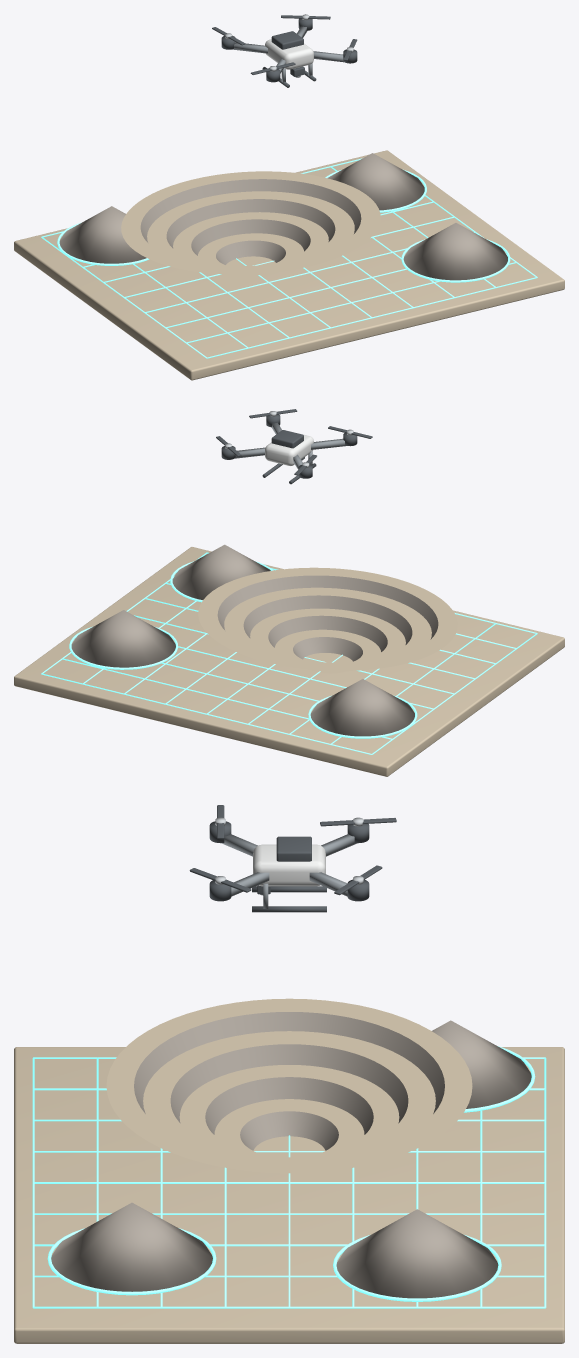
The model's file is drone-mine-monitoring.glb.
The picture shows the model from 3 angles, top to bottom: view 1: azimuth 30°, elevation 25°; view 2: azimuth 150°, elevation 25°; view 3: azimuth 270°, elevation 25°; orthographic projection. The views are drawn at different scales.
Visible parts, largest first — view 1: Base_0026, Terrace_0027, Ore_Pile_0040, Terrace_0029, Terrace_0028, Ore_Pile_0038, Ore_Pile_0036, Terrace_0030, Terrace_0031, Terrace_0032, Terrace_0033, Terrace_0034 (+5 smaller); view 2: Base_0026, Terrace_0027, Ore_Pile_0038, Ore_Pile_0036, Terrace_0029, Terrace_0028, Ore_Pile_0040, Terrace_0030, Terrace_0031, Terrace_0032, Terrace_0033, Terrace_0034 (+5 smaller); view 3: Base_0026, Terrace_0027, Ore_Pile_0038, Ore_Pile_0040, Terrace_0029, Terrace_0028, Terrace_0030, Terrace_0031, Terrace_0032, Ore_Pile_0036, Terrace_0033, Terrace_0034 (+11 smaller).
Boxes of the visible parts, x1=… form: Base_0026: x1=14, y1=150, x2=564, y2=380; Terrace_0027: x1=121, y1=171, x2=380, y2=274; Ore_Pile_0040: x1=403, y1=223, x2=507, y2=280; Terrace_0029: x1=147, y1=191, x2=354, y2=266; Terrace_0028: x1=140, y1=179, x2=361, y2=242; Ore_Pile_0038: x1=327, y1=153, x2=424, y2=210; Ore_Pile_0036: x1=59, y1=206, x2=146, y2=263; Terrace_0030: x1=166, y1=199, x2=335, y2=248; Terrace_0031: x1=173, y1=212, x2=328, y2=265; Terrace_0032: x1=191, y1=219, x2=310, y2=255; Terrace_0033: x1=198, y1=233, x2=303, y2=275; Terrace_0034: x1=216, y1=240, x2=285, y2=264; Base_0026: x1=14, y1=547, x2=564, y2=776; Terrace_0027: x1=198, y1=567, x2=457, y2=670; Ore_Pile_0038: x1=71, y1=610, x2=175, y2=667; Ore_Pile_0036: x1=310, y1=679, x2=414, y2=736; Terrace_0029: x1=224, y1=587, x2=431, y2=663; Terrace_0028: x1=217, y1=575, x2=438, y2=639; Ore_Pile_0040: x1=172, y1=544, x2=270, y2=599; Terrace_0030: x1=243, y1=595, x2=412, y2=644; Terrace_0031: x1=250, y1=608, x2=405, y2=661; Terrace_0032: x1=268, y1=615, x2=387, y2=651; Terrace_0033: x1=275, y1=629, x2=381, y2=671; Terrace_0034: x1=293, y1=637, x2=362, y2=661; Base_0026: x1=14, y1=1047, x2=564, y2=1343; Terrace_0027: x1=106, y1=998, x2=472, y2=1173; Ore_Pile_0038: x1=336, y1=1209, x2=498, y2=1298; Ore_Pile_0040: x1=51, y1=1202, x2=212, y2=1291; Terrace_0029: x1=143, y1=1031, x2=435, y2=1160; Terrace_0028: x1=134, y1=1012, x2=444, y2=1113; Terrace_0030: x1=170, y1=1044, x2=408, y2=1123; Terrace_0031: x1=179, y1=1065, x2=399, y2=1157; Terrace_0032: x1=205, y1=1077, x2=373, y2=1134; Ore_Pile_0036: x1=432, y1=1020, x2=531, y2=1108; Terrace_0033: x1=214, y1=1099, x2=364, y2=1155; Terrace_0034: x1=240, y1=1111, x2=338, y2=1150.
Size of the model in its own units: 3.4 by 2.02 by 2.8.
